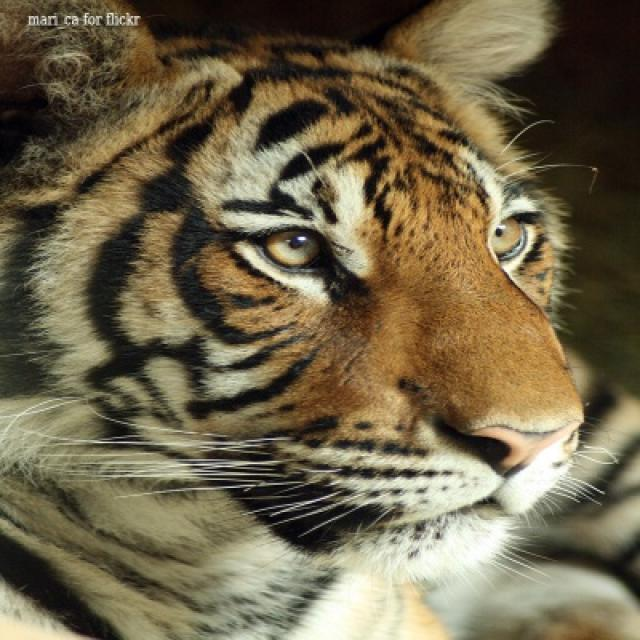Tiger: (0, 0, 587, 638)
